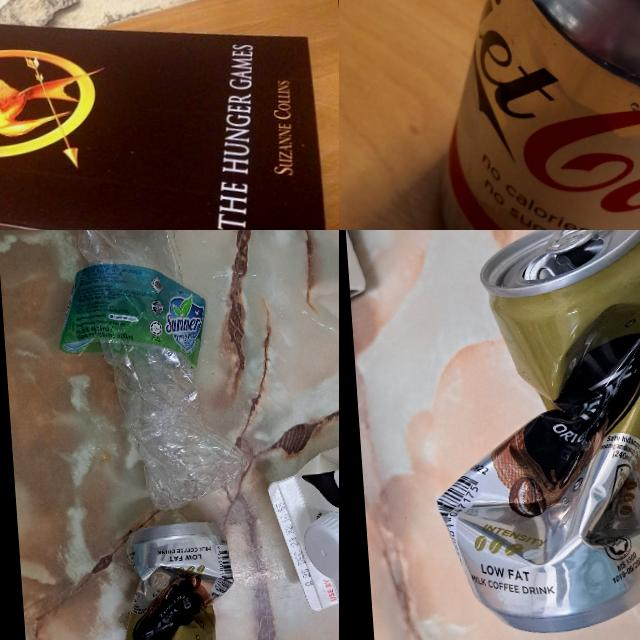aba de lata: (541, 230, 617, 255)
caixinha: (263, 388, 339, 614)
garrafa plástica: (48, 230, 251, 517)
lata: (415, 230, 640, 640), (405, 0, 640, 230), (93, 519, 241, 640)
papel: (0, 0, 331, 230)
tampa plástica: (303, 513, 339, 582)
